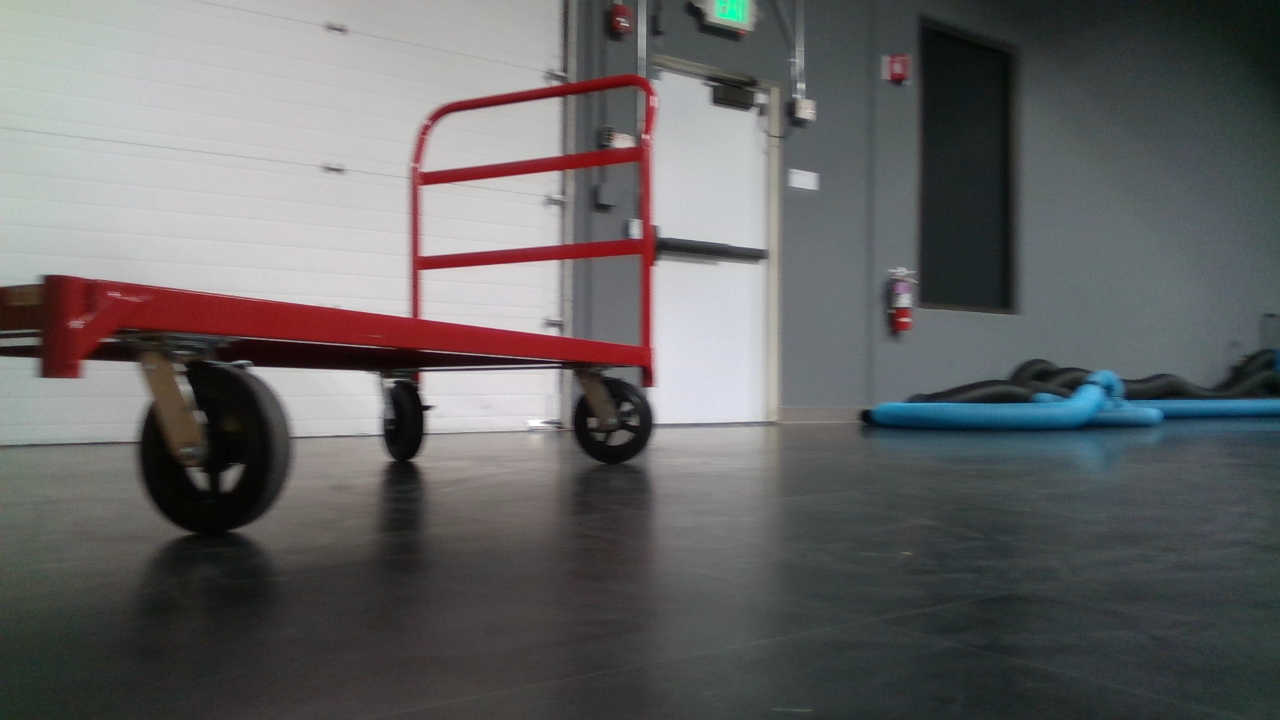Dolly: (0, 47, 683, 541)
Wheel: (124, 358, 304, 534), (568, 370, 655, 466), (380, 384, 432, 465)
